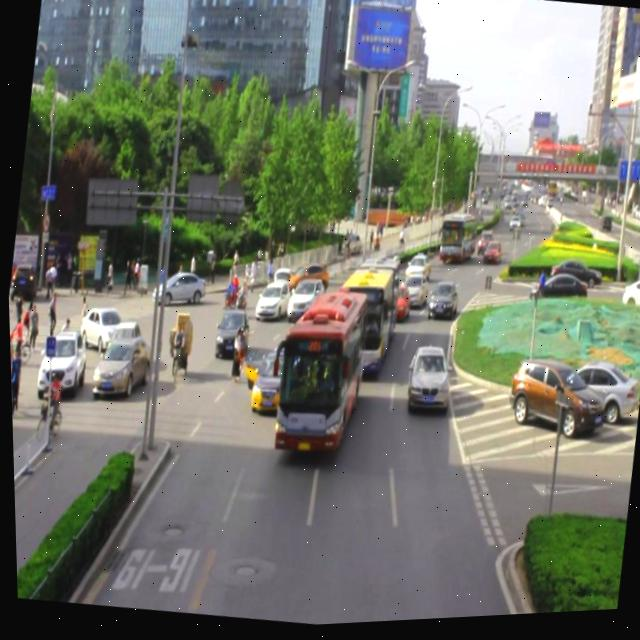car: (400, 346, 452, 418), (245, 345, 298, 415), (283, 275, 325, 327), (211, 306, 250, 360), (252, 277, 292, 326), (283, 264, 329, 303), (424, 282, 459, 327), (378, 283, 410, 327), (395, 275, 426, 313), (400, 255, 430, 289)
van: (267, 287, 367, 460), (327, 255, 401, 385)
